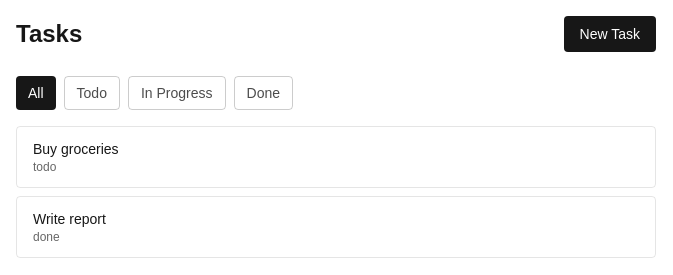
Test: TasksPage › renders the fetched task list, then re-fetches and re-renders when a status tab is selected
Check: the text "Buy groceries" is shown, box left=33, top=139, right=119, bottom=159
Check: the text "Write report" is shown, box left=33, top=209, right=106, bottom=229
Click the tab "Todo".
click(92, 93)  # box left=64, top=76, right=120, bottom=110
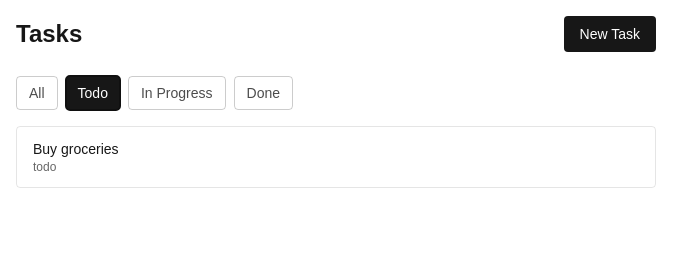
Check: the text "Buy groceries" is shown, box left=33, top=139, right=119, bottom=159
Check: the text "Write report" is gone
